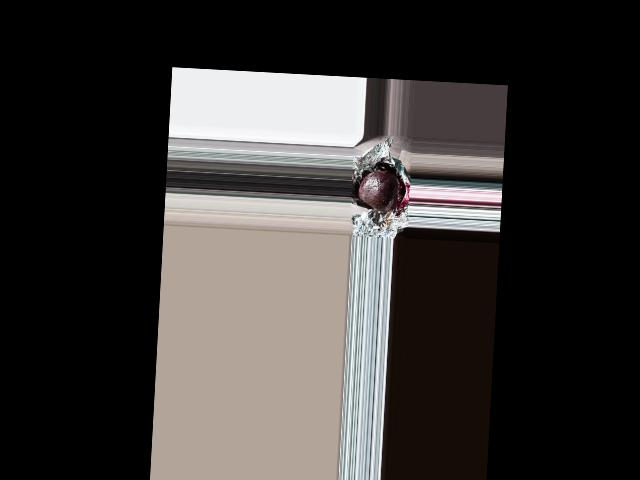beet: (357, 169, 399, 213)
